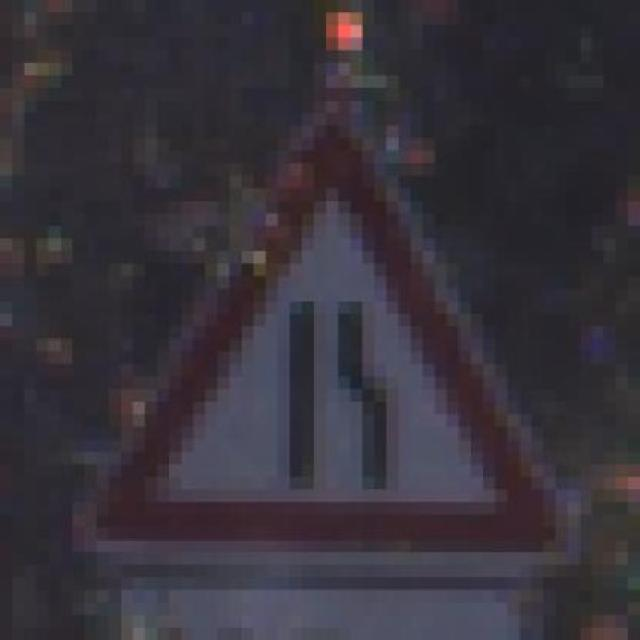-Road narrows on right: (72, 75, 580, 578)
